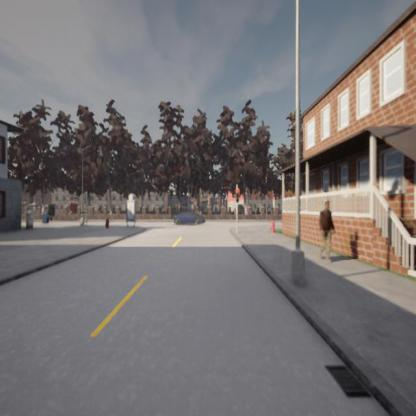person: (319, 202, 336, 261)
vehicle: (173, 212, 205, 224)
